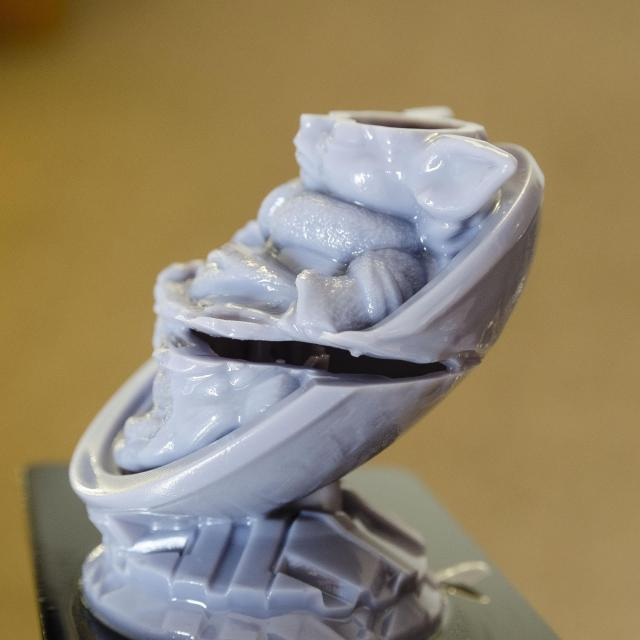cracking: (170, 314, 473, 431)
